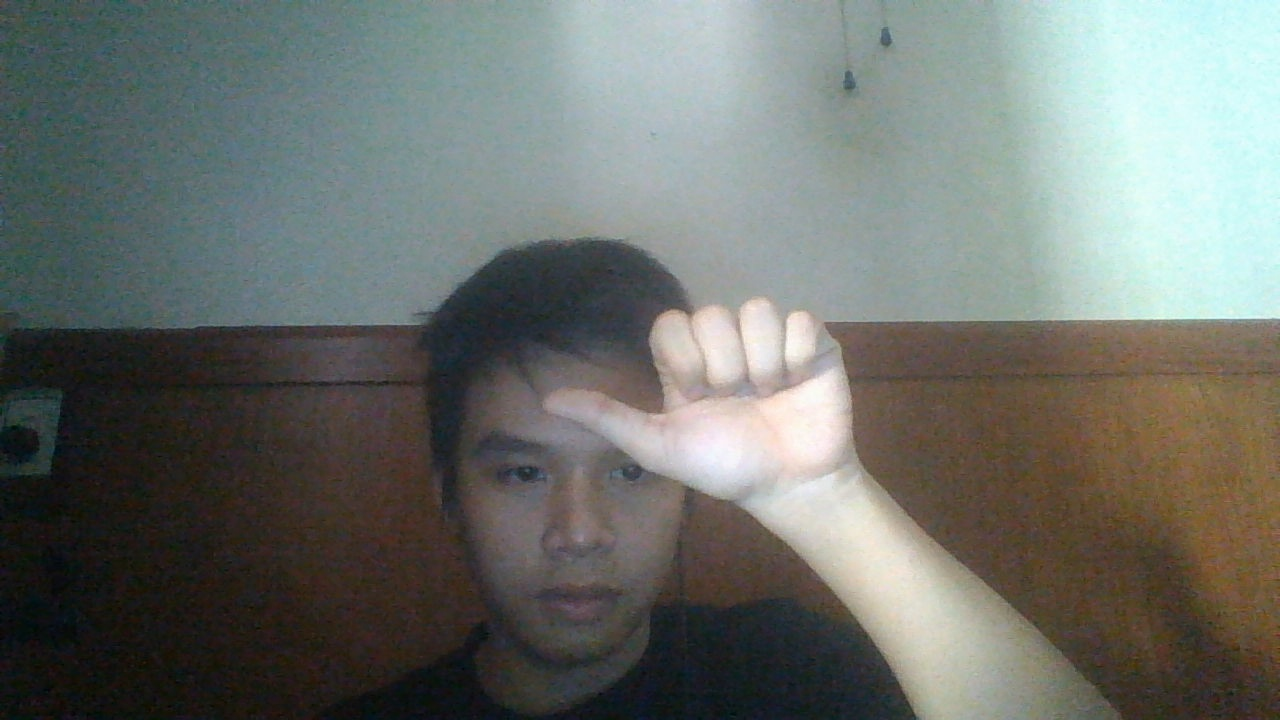back: (538, 304, 861, 507)
